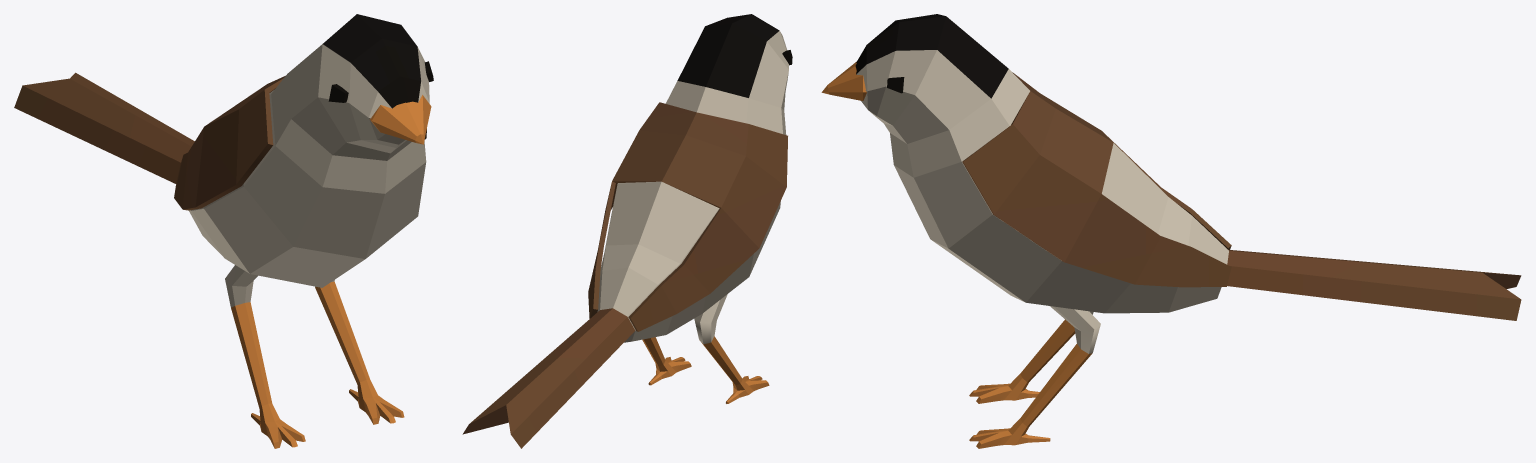
The model's file is 3rTjKefT184.glb.
3 renders of one model, left to right at view 1: azimuth 30°, elevation 25°; view 2: azimuth 150°, elevation 25°; view 3: azimuth 270°, elevation 25°, orthographic. The views are drawn at different scales.
Visible parts, largest first — view 1: Geo_Sparrow; view 2: Geo_Sparrow; view 3: Geo_Sparrow.
Part boxes in pixels (bbox=[...]): Geo_Sparrow: bbox=[14, 14, 433, 448]; Geo_Sparrow: bbox=[462, 14, 792, 448]; Geo_Sparrow: bbox=[821, 14, 1521, 448].
Size of the model in its own units: 0.4752 by 0.9999 by 1.57.
Materials: 1 (1 with a texture image).
